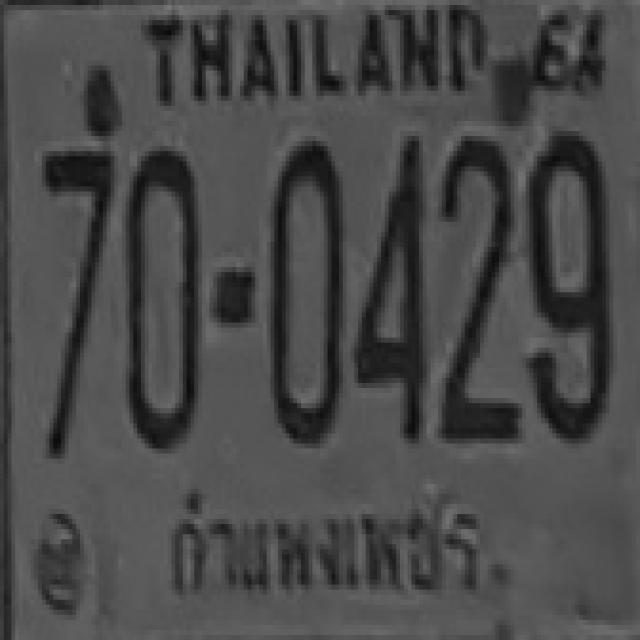0: (268, 136, 344, 444), (124, 146, 200, 449)
2: (440, 136, 512, 393), (440, 202, 516, 438)
4: (354, 133, 423, 441)
7: (42, 146, 114, 368), (42, 146, 114, 323)
9: (526, 133, 610, 441), (526, 182, 610, 438)
KamphaengPhet: (163, 480, 487, 606)
